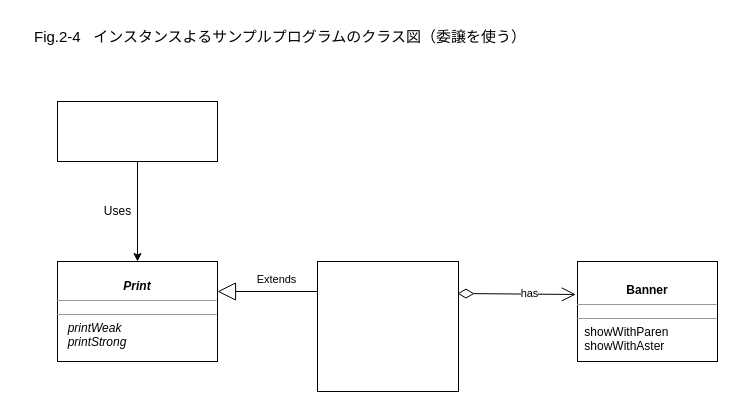
The diagram is 735 pixels wide and 409 high, and some of its shapes have lost their labels. The centre of each missing label's shape, as x and y in pixels:
"Main" belongs at point 137,131.
"PrintBanner banner printWeak printStrong" belongs at point 387,326.
